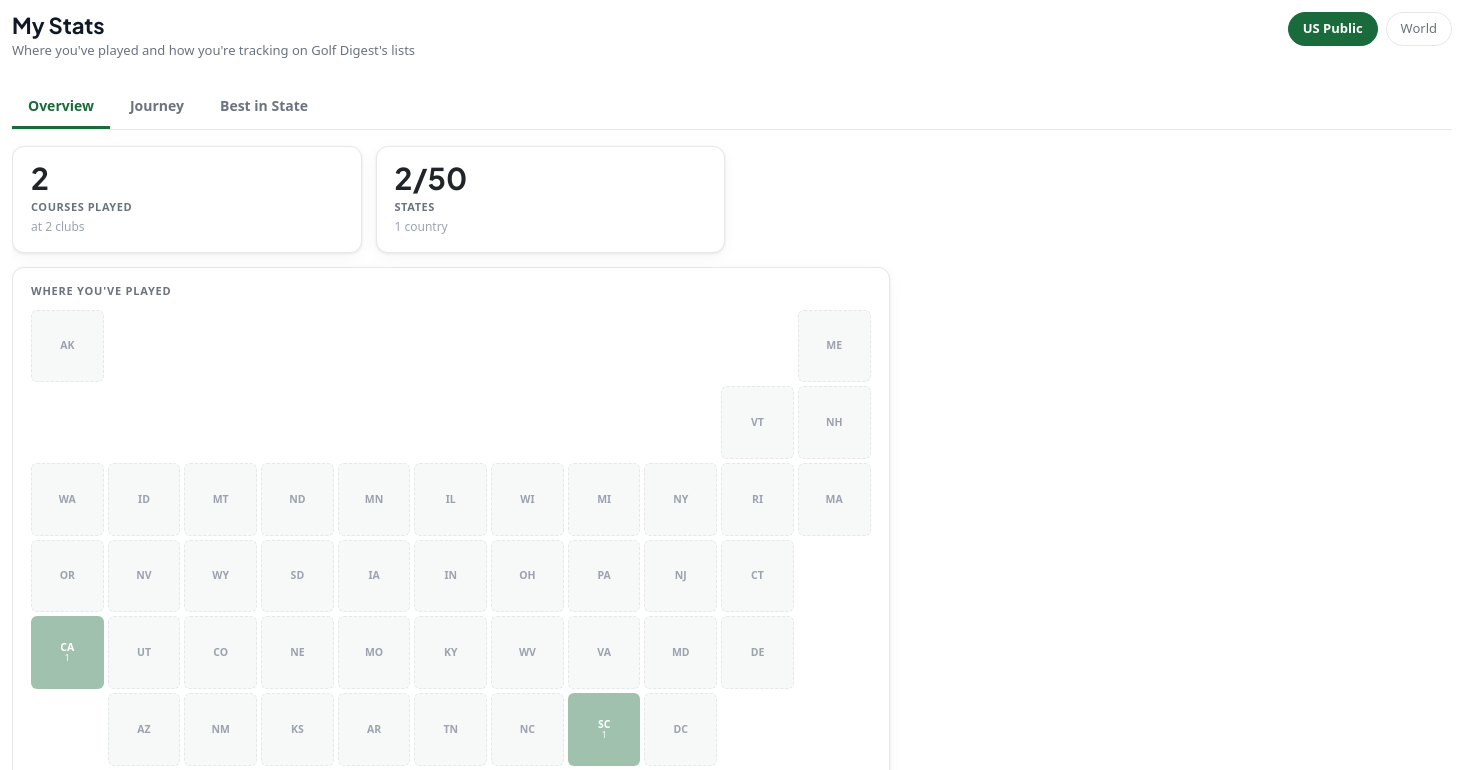
Test: Stats overview › shows countries, not US states, for the World list
This screenshot has width=1464, height=770.
Later steps or results of the test are not shown.
Step 1. Click the button "World" → [1419, 29], box [1386,12,1452,46]
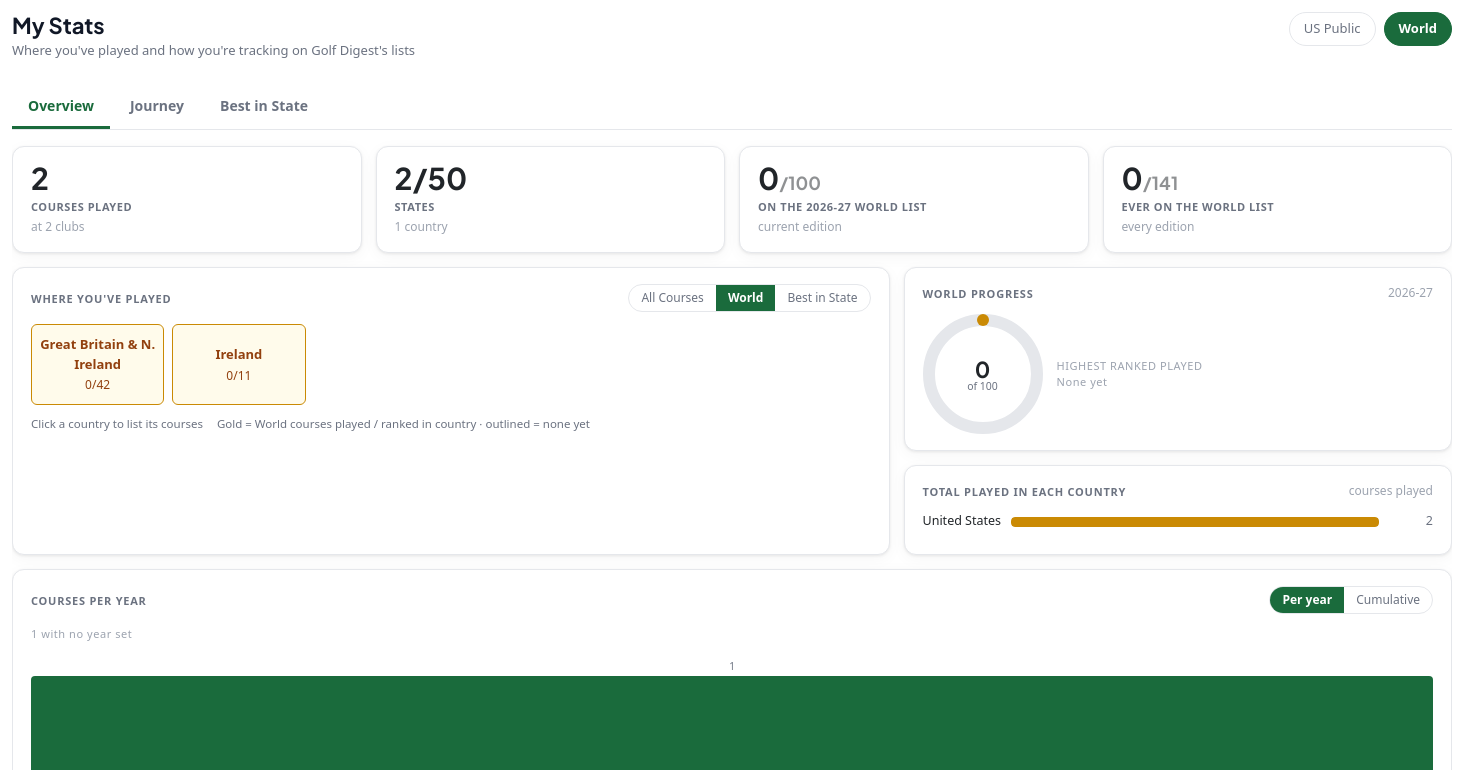
Result: the button titled "Ireland: 0 of 11 ranked courses played" is shown at [172,324,306,405]
Result: the heading "Total played in each country" is shown at [922,485,1126,498]
